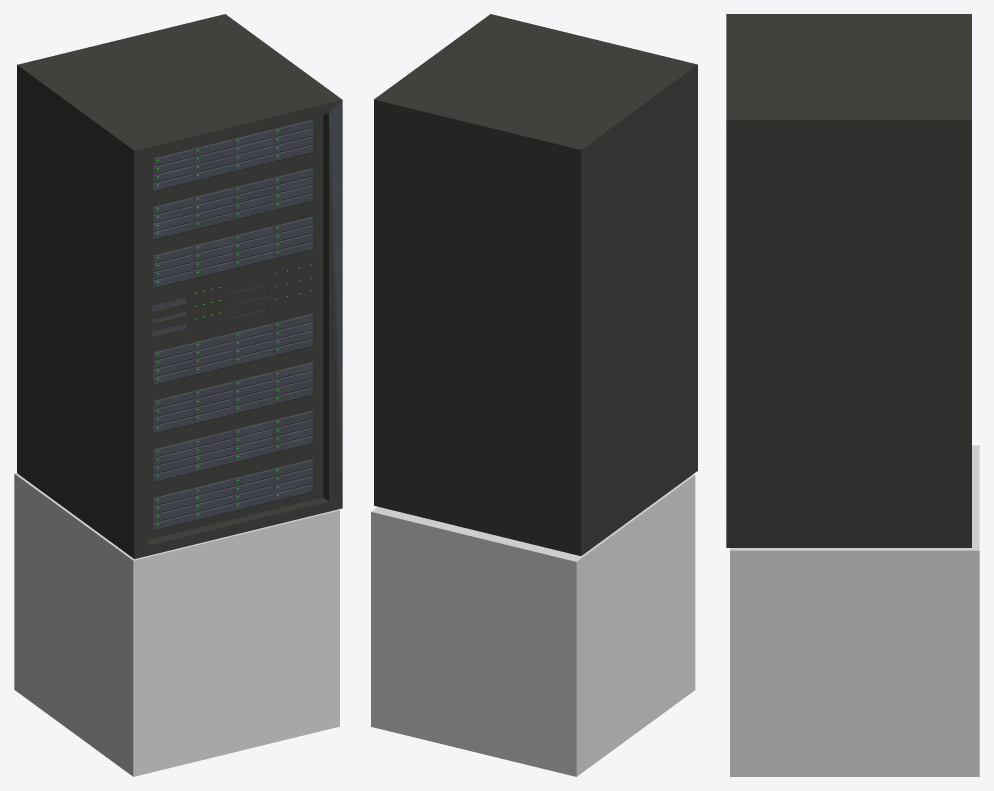
The model's file is Full_Newserver.fbx.
3 views of the same model, side by side, from view 1: azimuth 30°, elevation 25°; view 2: azimuth 150°, elevation 25°; view 3: azimuth 270°, elevation 25° (orthographic). The views are drawn at different scales.
Visible parts, largest first — view 1: Box846, Box845; view 2: Box846, Box845; view 3: Box846, Box845.
Part boxes in pixels (bbox=[...]): Box846: bbox=[17, 14, 342, 558]; Box845: bbox=[14, 473, 339, 776]; Box846: bbox=[374, 14, 697, 555]; Box845: bbox=[371, 474, 695, 776]; Box846: bbox=[726, 14, 971, 547]; Box845: bbox=[730, 445, 979, 776].
Size of the model in its own units: 39.84 by 40.12 by 115.
